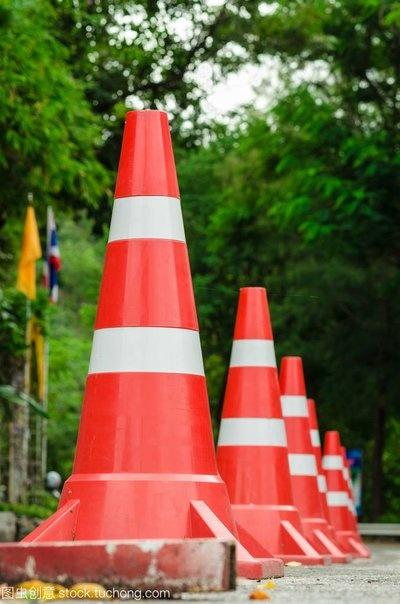cone_barrel: (33, 111, 230, 564), (211, 289, 299, 568), (275, 352, 323, 552), (315, 429, 356, 552)
